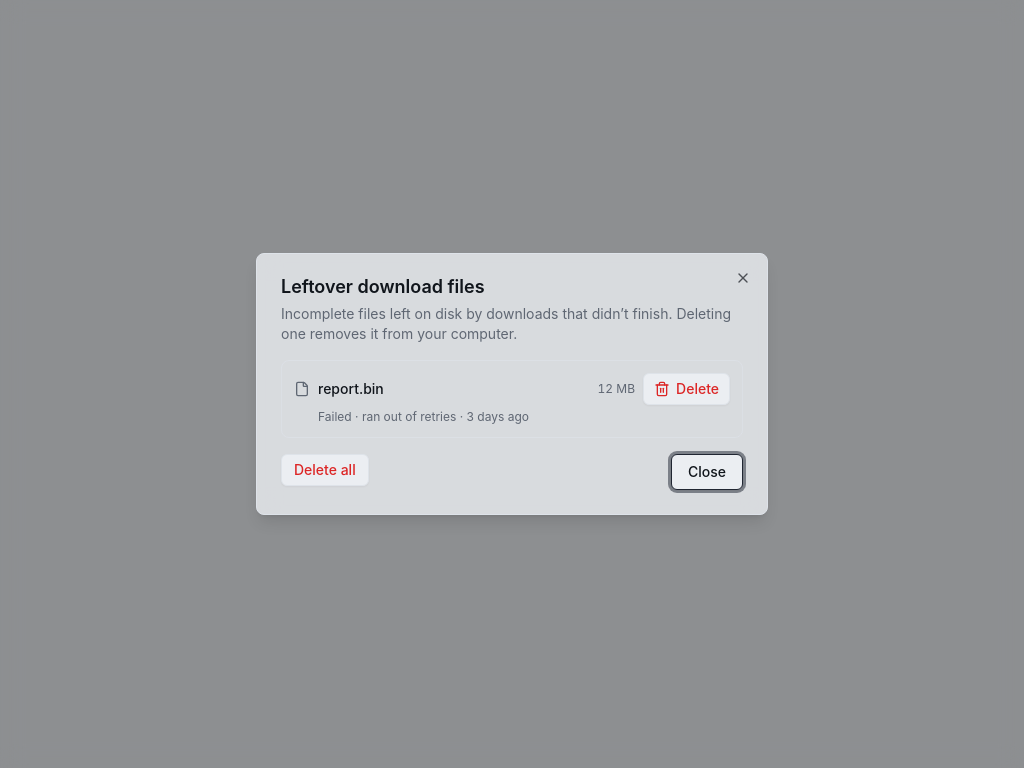
Scenario: LeftoverFilesDialog › per-row Delete failure keeps the row with an inline error
This screenshot has width=1024, height=768.
Click the button "Delete" at (687, 389), box x1=643 y1=373 x2=730 y2=405
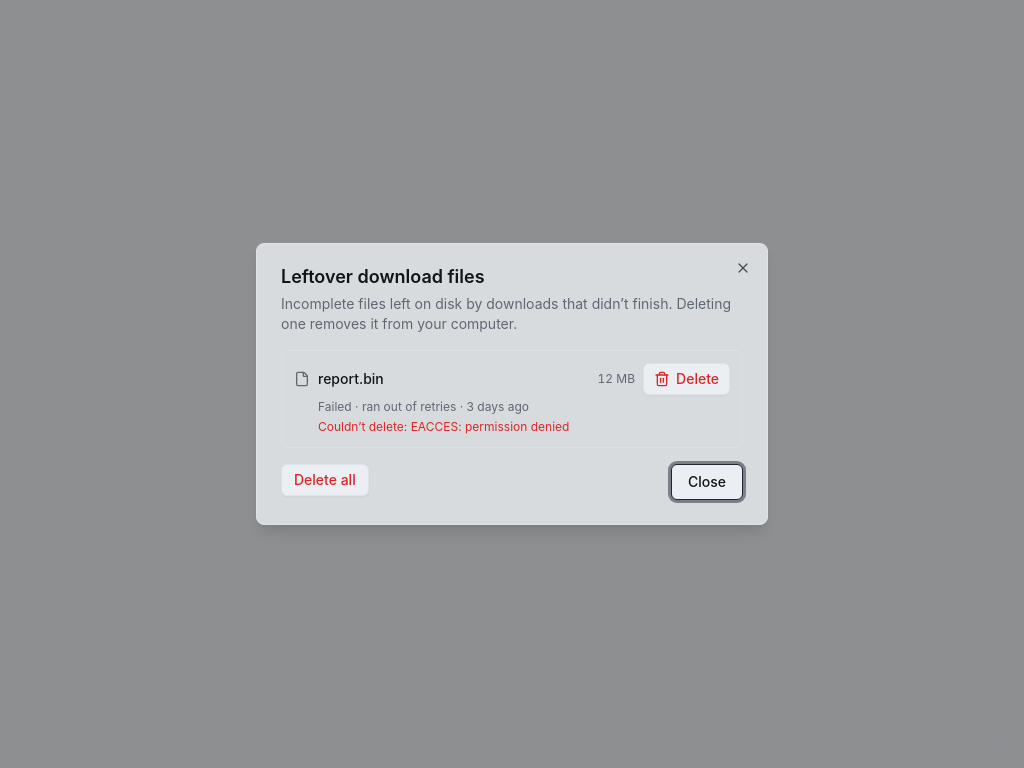
Expected: the text "report.bin" is shown, x1=318 y1=370 x2=384 y2=387
Result: the text "Couldn’t delete: EACCES: permission denied" is shown at x1=318 y1=419 x2=569 y2=434
